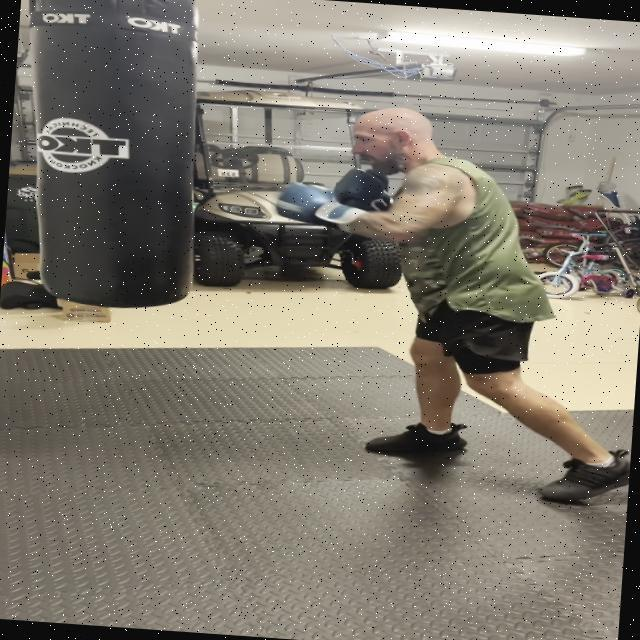bag: (21, 0, 209, 314)
cross: (260, 76, 520, 264)
